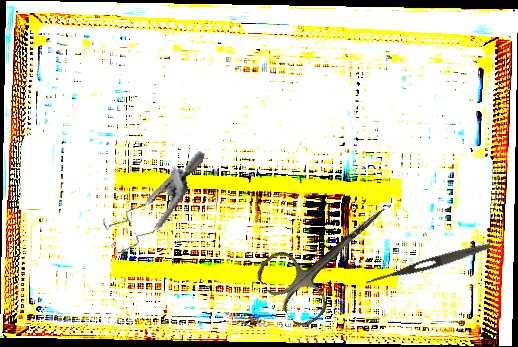Dressing Forceps: (364, 240, 492, 289)
Iris Scissors: (251, 180, 411, 332)
Speculum: (95, 131, 206, 270)
